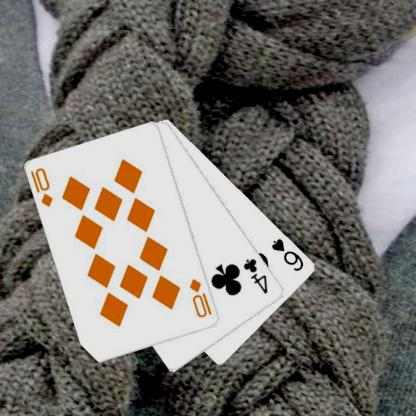10D: (187, 276, 214, 320), (28, 165, 54, 209)
4C: (240, 256, 270, 296)
6S: (269, 236, 306, 273)
